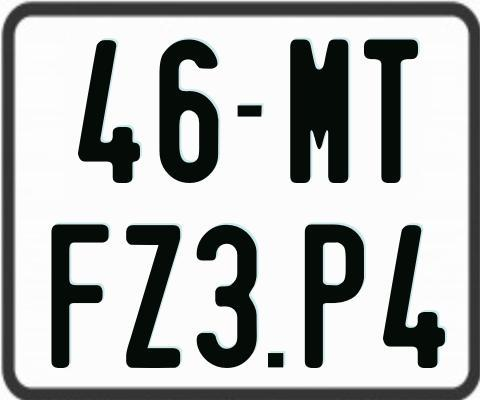3: (194, 223, 259, 372)
4: (383, 224, 447, 368), (78, 37, 140, 183)
6: (159, 38, 218, 182)
F: (51, 223, 114, 373)
M: (289, 38, 352, 183)
P: (303, 222, 367, 371)
T: (363, 36, 421, 183)
Z: (123, 225, 178, 371)
